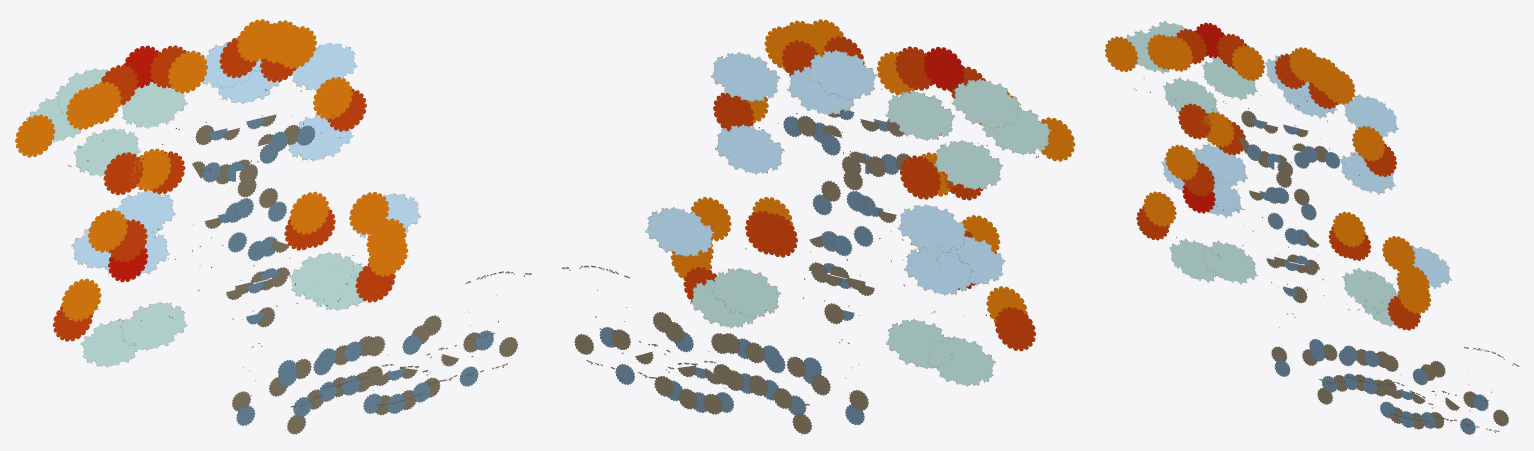
File: bigtree02_bg.glb
3 views of the same model, side by side, from view 1: azimuth 30°, elevation 25°; view 2: azimuth 150°, elevation 25°; view 3: azimuth 330°, elevation 25° (orthographic). The views are drawn at different scales.
Parts seen in each view (by area): view 1: bigtree02_bg; view 2: bigtree02_bg; view 3: bigtree02_bg.
Part boxes in pixels (x1,y1,x2,y2): bigtree02_bg: (15, 19, 531, 434); bigtree02_bg: (562, 19, 1075, 434); bigtree02_bg: (1105, 21, 1519, 434).
Size of the model in its own units: 2690 by 2132 by 139.
11 materials, 11 textured.
